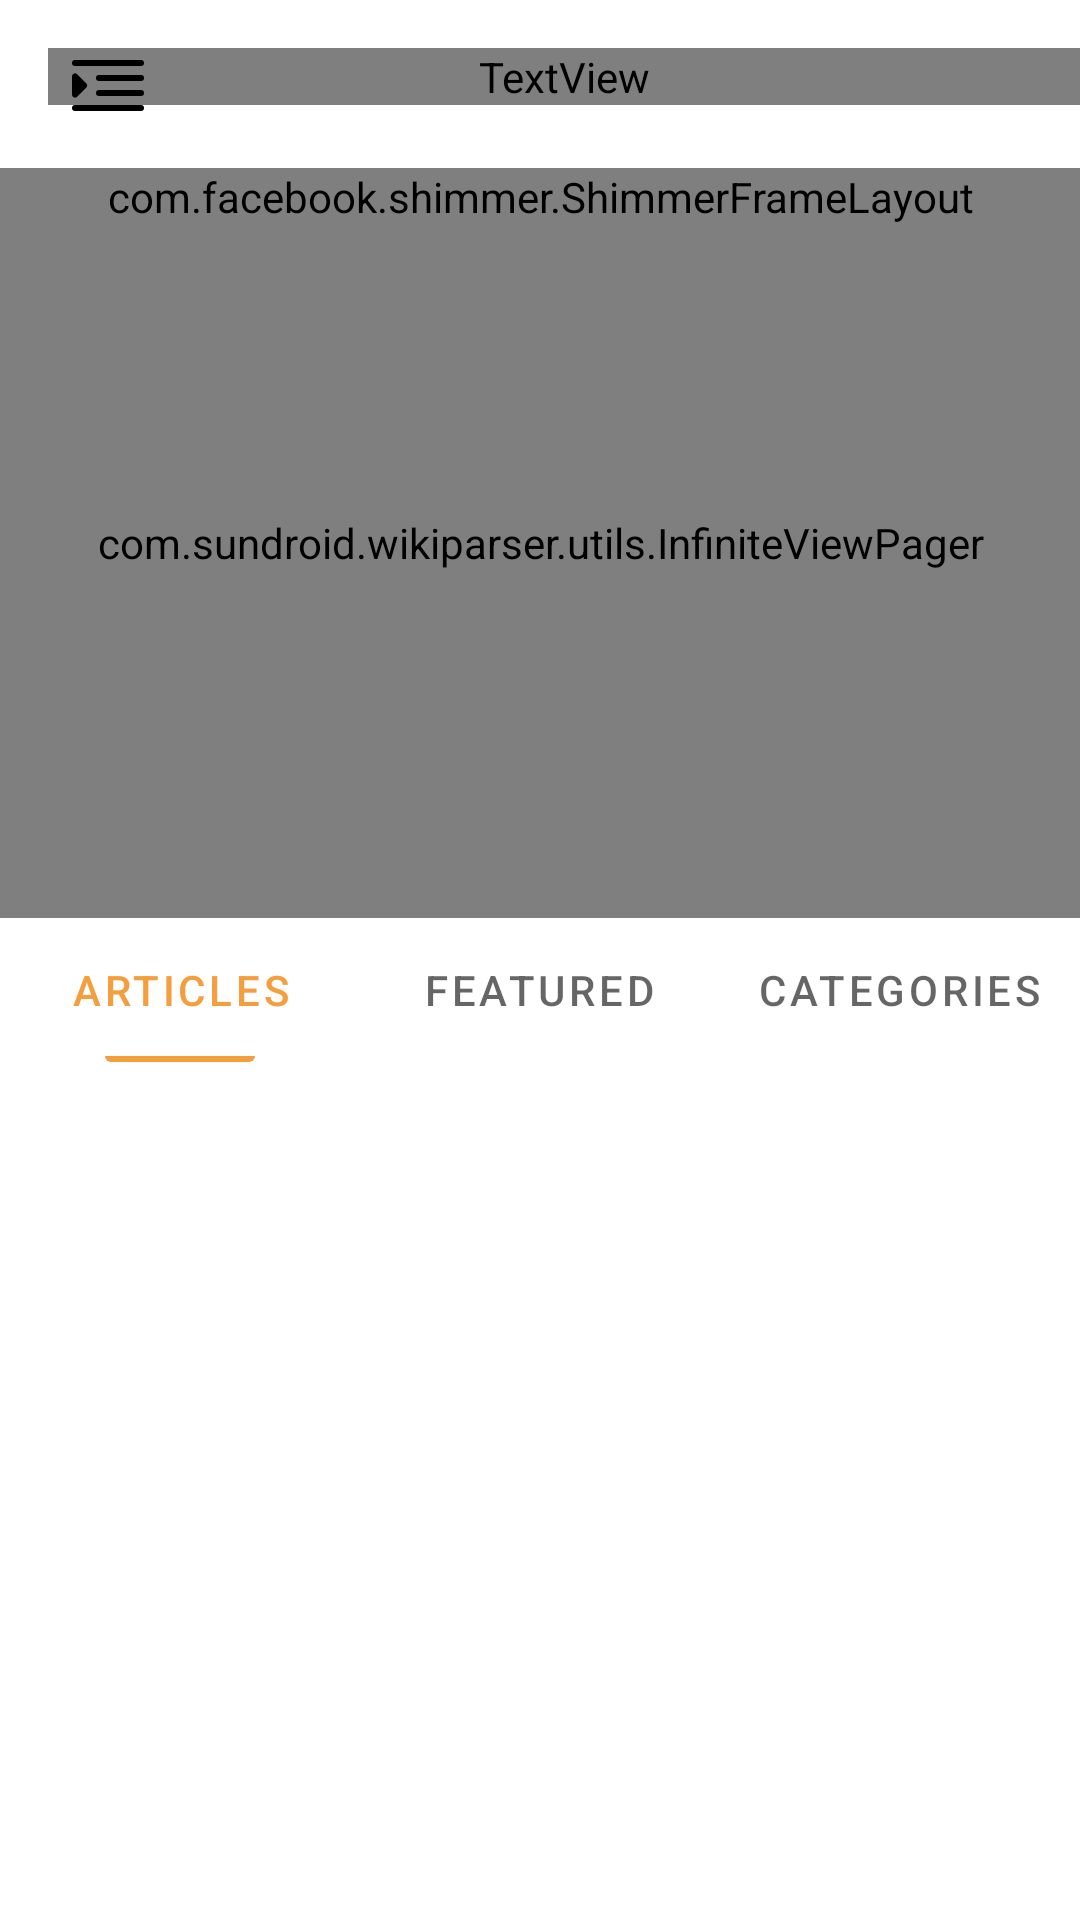

Icons on this 1080px×1920px Android screen, each with the point to tap as [x,y]:
indent: [108,79]
